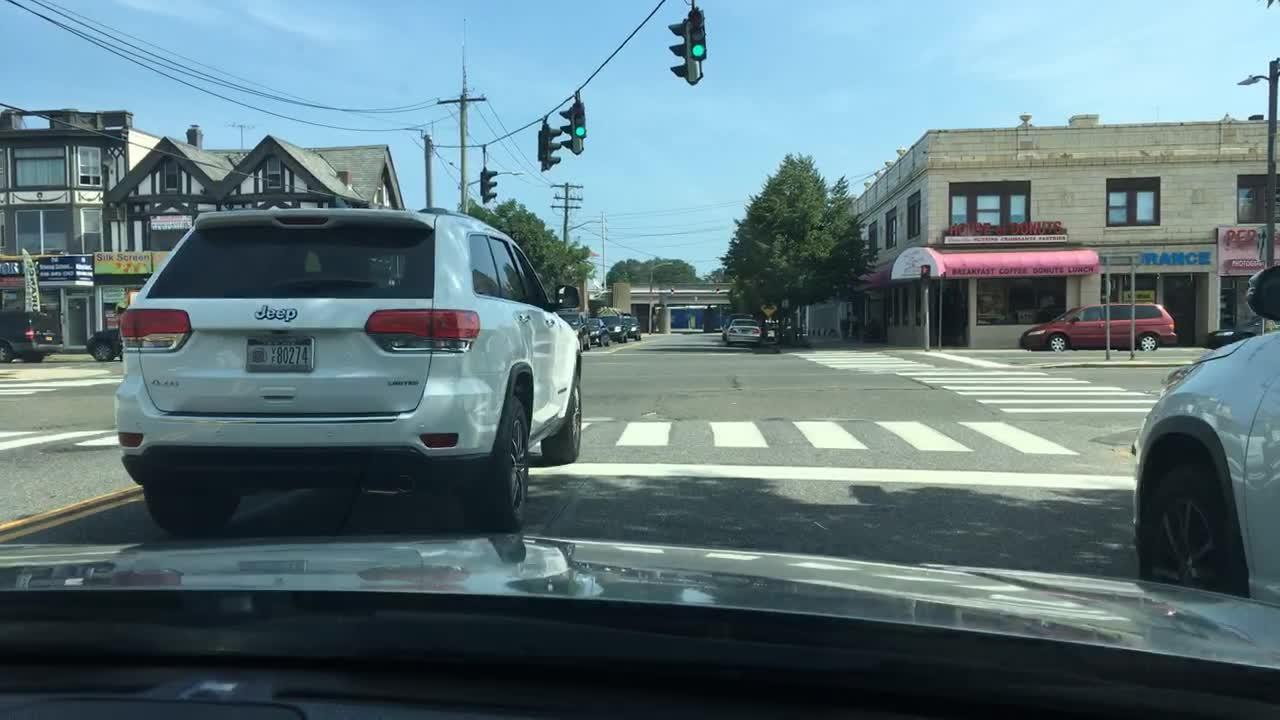jeep: (245, 300, 316, 328)
